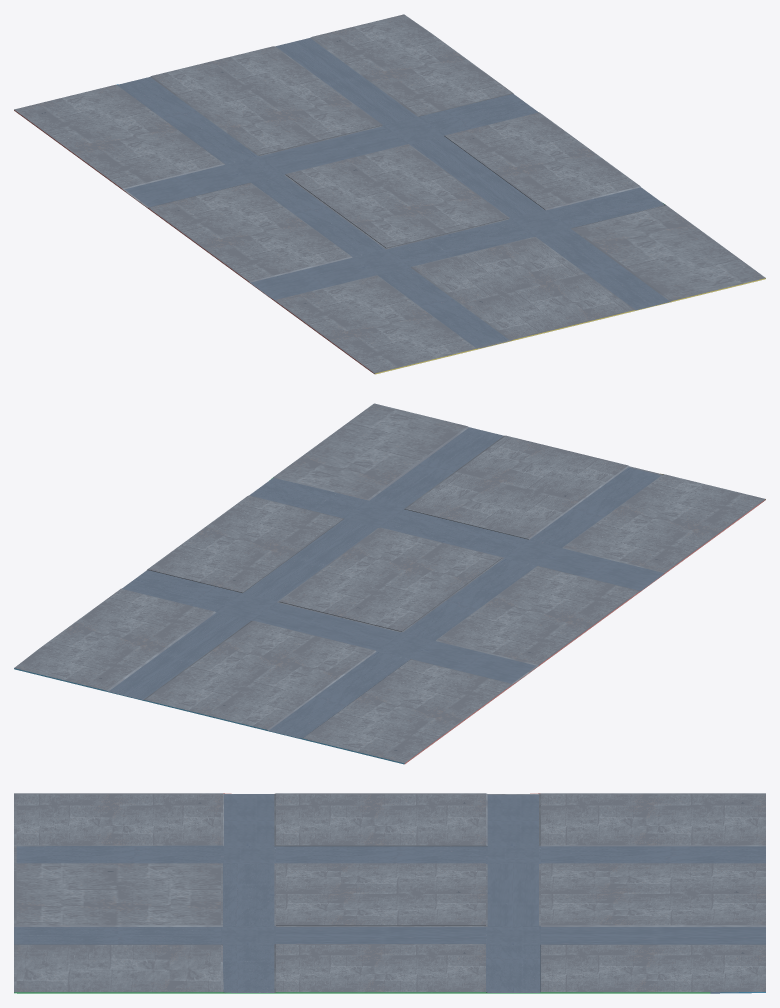
File: chinatownblock.fbx
3 renders of one model, top to bottom at view 1: azimuth 30°, elevation 25°; view 2: azimuth 150°, elevation 25°; view 3: azimuth 270°, elevation 25°, orthographic. The views are drawn at different scales.
Visible parts, largest first — view 1: chinabase; view 2: chinabase; view 3: chinabase.
Part boxes in pixels (x1,y1,x2,y2): chinabase: [14, 14, 765, 374]; chinabase: [14, 403, 765, 764]; chinabase: [14, 793, 765, 993].
Size of the model in its own units: 573 by 1.56 by 916.
Materials: 1 (1 with a texture image).
